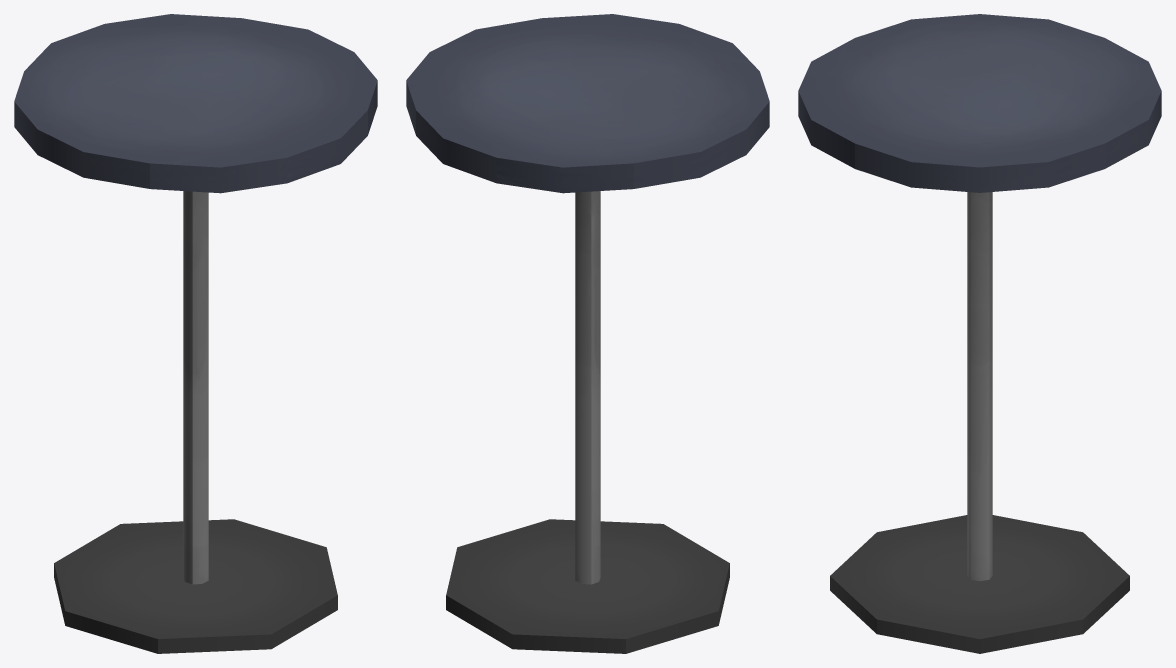
The model's file is Chair_2_Type.fbx.
3 renders of one model, left to right at view 1: azimuth 30°, elevation 25°; view 2: azimuth 150°, elevation 25°; view 3: azimuth 270°, elevation 25°, orthographic.
Parts seen in each view (by area): view 1: Chair, Base, Body; view 2: Chair, Base, Body; view 3: Chair, Base, Body.
Part boxes in pixels (box(x1,y1,x2,y2)): Chair: box(14, 14, 377, 193); Base: box(54, 519, 337, 653); Body: box(183, 191, 208, 584); Chair: box(406, 14, 769, 193); Base: box(446, 519, 729, 653); Body: box(575, 191, 600, 584); Chair: box(798, 14, 1161, 192); Base: box(830, 515, 1129, 653); Body: box(967, 192, 992, 580).
Size of the model in its own units: 0.8386 by 1.27 by 0.8386.
